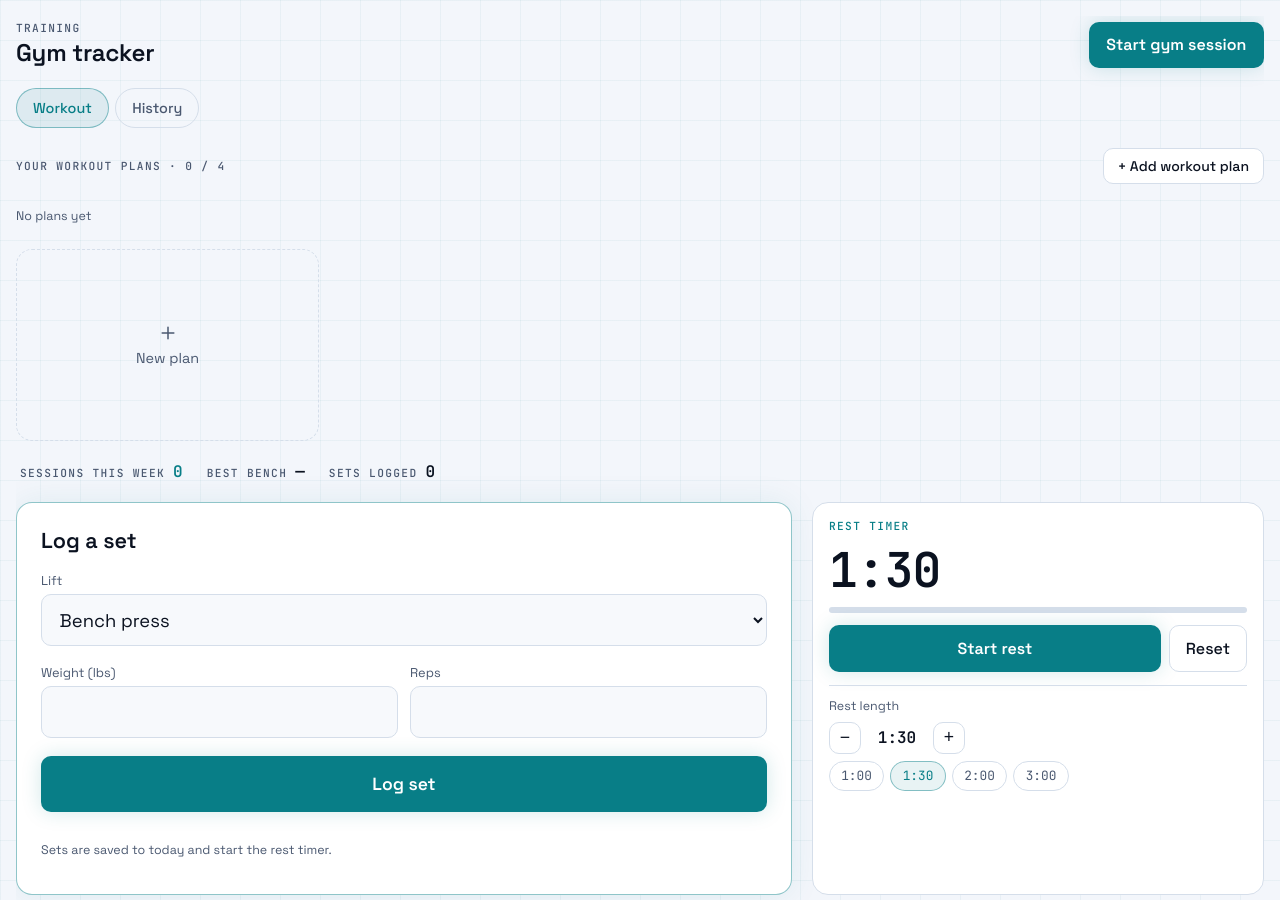
Test case: Your workout plans › refuses a blank new exercise
Click the button "+ Add workout plan".
click(1183, 166)  # box top-left (1103, 148), bottom-right (1264, 184)
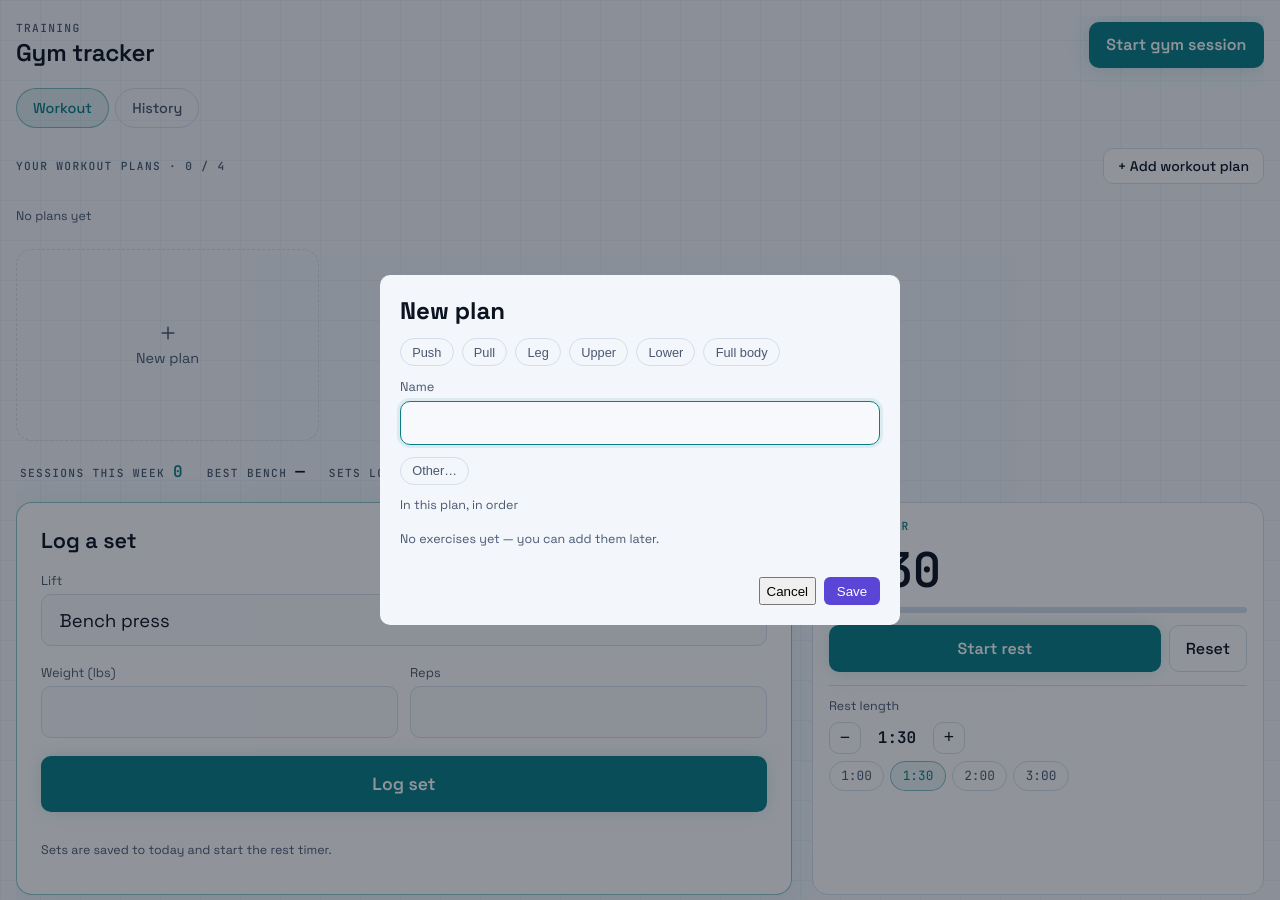
Click the button "Other…".
click(435, 471)  # box top-left (400, 457), bottom-right (469, 485)
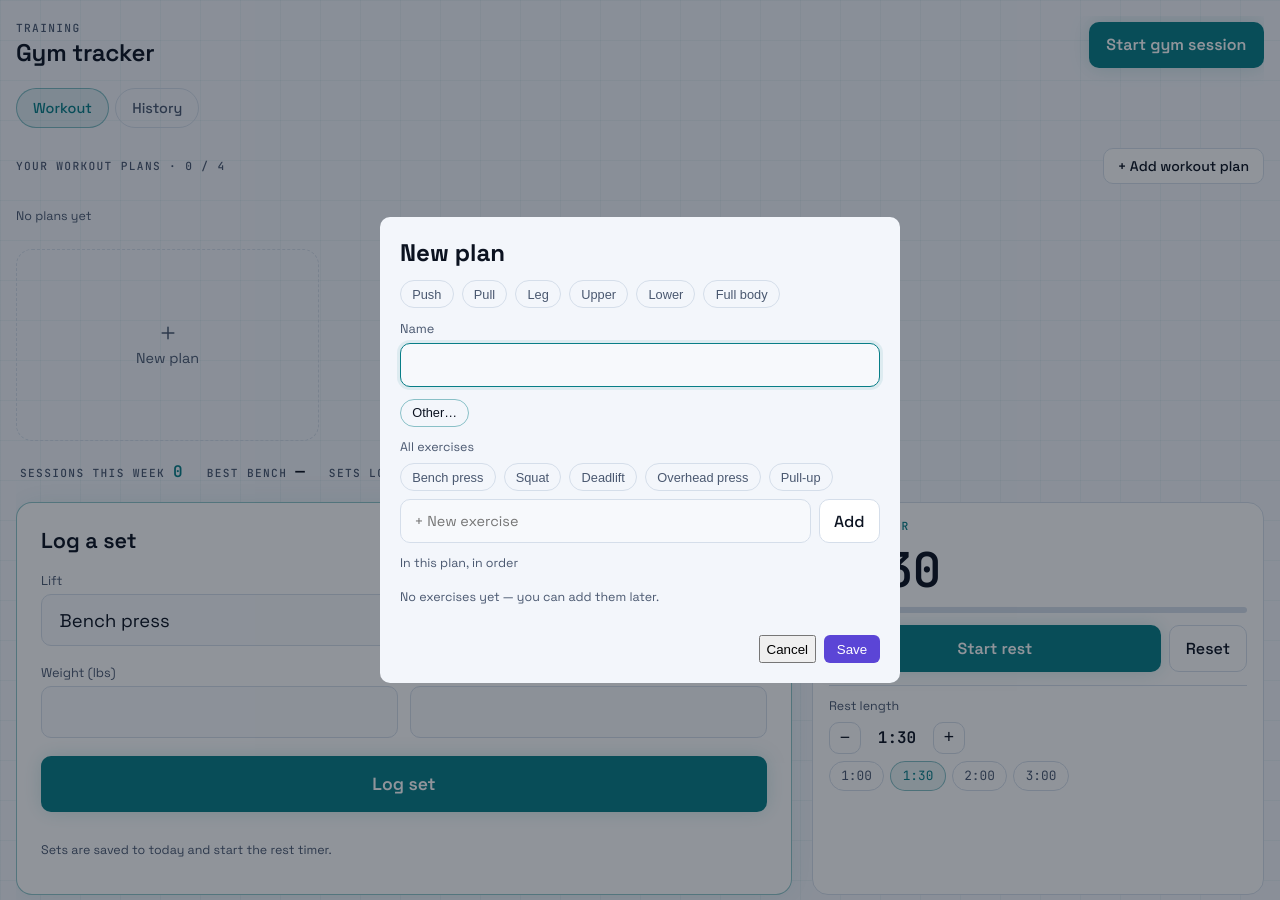
Click the button "Add".
click(849, 521)  # box top-left (819, 499), bottom-right (880, 543)
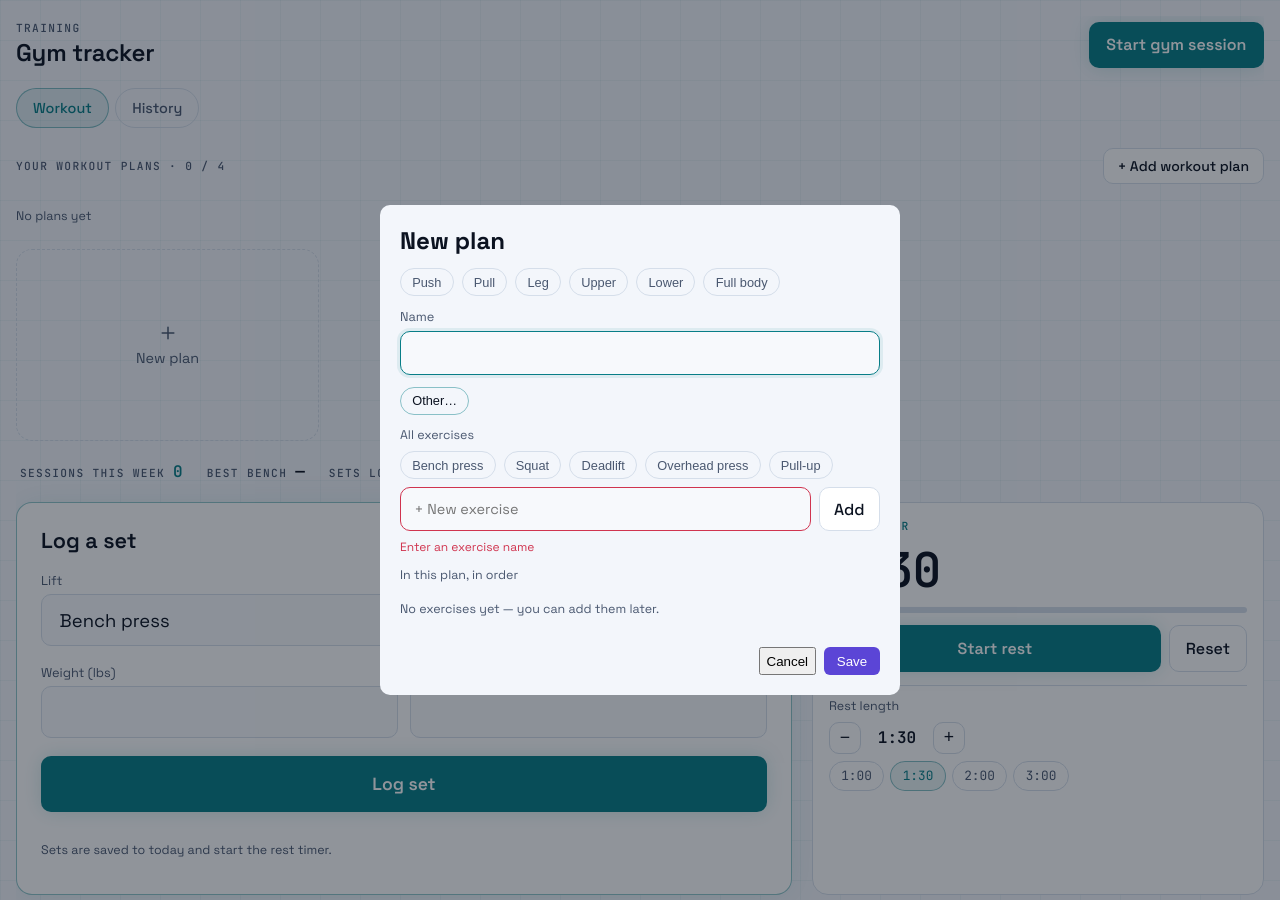
Check: the dialog shows "Enter an exercise name", box top-left (400, 539), bottom-right (534, 555)
